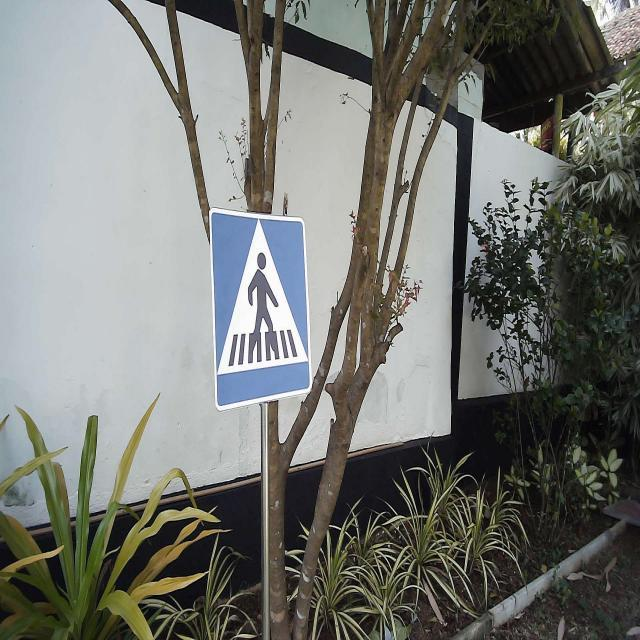crosswalk_sign: (208, 207, 314, 415)
